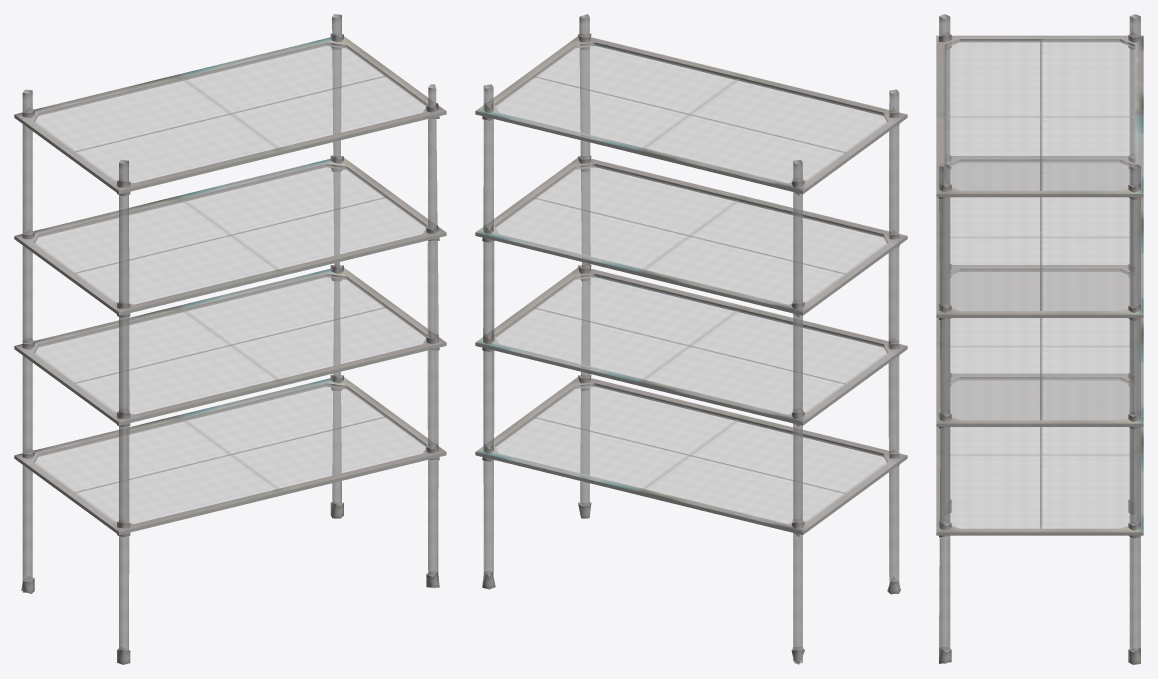
Rendered from ss-wire-shelf.lod1.glb.
3 renders of one model, left to right at view 1: azimuth 30°, elevation 25°; view 2: azimuth 150°, elevation 25°; view 3: azimuth 270°, elevation 25°, orthographic.
Parts seen in each view (by area): view 1: general_store_furniture_big_shelve.001_general_store_furnitu; view 2: general_store_furniture_big_shelve.001_general_store_furnitu; view 3: general_store_furniture_big_shelve.001_general_store_furnitu.
Boxes of the visible parts, bbox=[...] form: general_store_furniture_big_shelve.001_general_store_furnitu: bbox=[14, 14, 446, 664]; general_store_furniture_big_shelve.001_general_store_furnitu: bbox=[475, 14, 907, 664]; general_store_furniture_big_shelve.001_general_store_furnitu: bbox=[936, 14, 1143, 664].
Size of the model in its own units: 2.22 by 3.23 by 1.23.
Materials: 1 (1 with a texture image).
